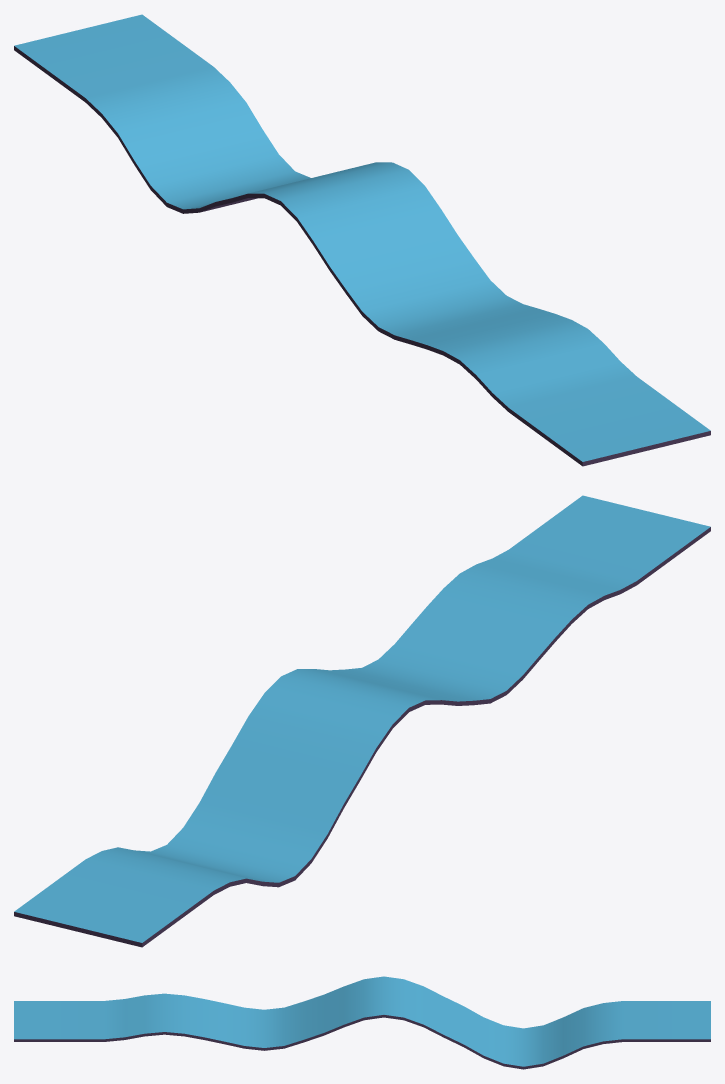
The model's file is frame_06_model.fbx.
3 renders of one model, top to bottom at view 1: azimuth 30°, elevation 25°; view 2: azimuth 150°, elevation 25°; view 3: azimuth 270°, elevation 25°, orthographic. The views are drawn at different scales.
Visible parts, largest first — view 1: pCube1; view 2: pCube1; view 3: pCube1.
Boxes of the visible parts, x1,y1,x2,y2 form: pCube1: (14, 14, 710, 466); pCube1: (14, 495, 710, 947); pCube1: (14, 976, 710, 1069).
Bounding box in the file's own units: 3 × 2 × 23.04.
